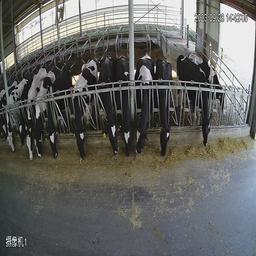cow: (174, 49, 214, 161), (71, 53, 100, 171), (192, 40, 233, 118), (43, 52, 70, 169), (135, 48, 158, 169), (21, 47, 44, 161), (98, 50, 119, 167), (3, 65, 26, 170), (156, 57, 178, 162), (114, 45, 132, 162), (34, 59, 50, 168)
